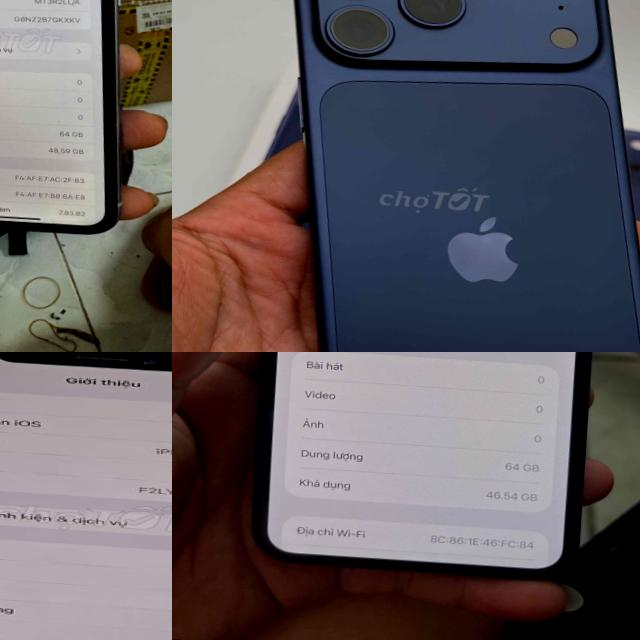gen_11: (237, 352, 614, 575)
gen_17: (245, 0, 640, 352)
gen_x_xs: (0, 352, 172, 640), (0, 0, 162, 240)
